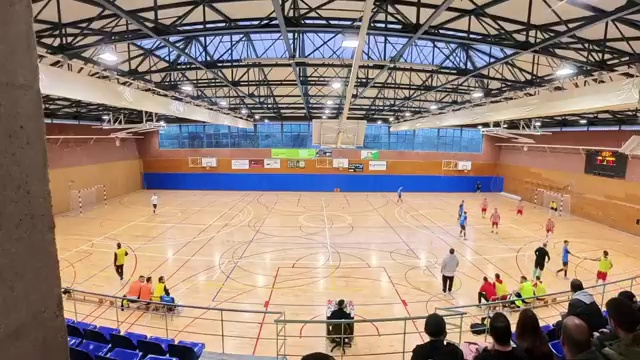players blue shirt: (558, 241, 571, 277), (460, 212, 467, 236), (458, 202, 464, 220), (397, 187, 402, 201)
players red shirt: (490, 208, 500, 232), (545, 217, 554, 243), (516, 201, 523, 215), (483, 198, 487, 217)
